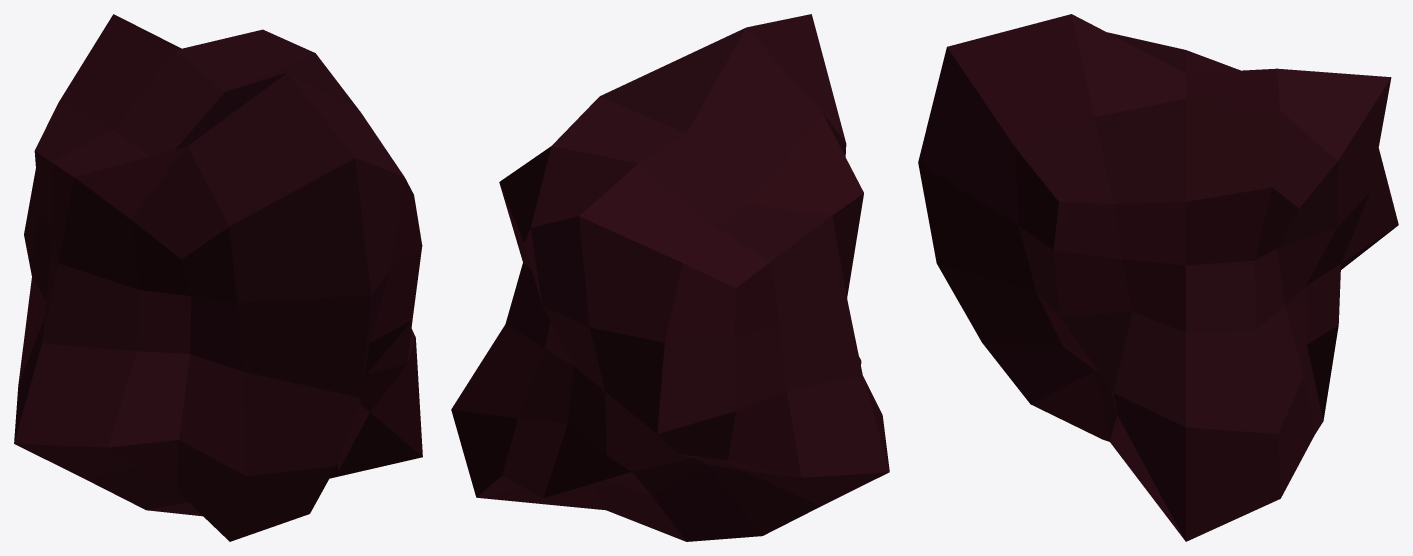
File: RockSmall1.fbx
3 renders of one model, left to right at view 1: azimuth 30°, elevation 25°; view 2: azimuth 150°, elevation 25°; view 3: azimuth 270°, elevation 25°, orthographic. The views are drawn at different scales.
Parts seen in each view (by area): view 1: Rock; view 2: Rock; view 3: Rock.
Part boxes in pixels (<box>): Rock: <box>14,14,422,541</box>; Rock: <box>451,14,889,541</box>; Rock: <box>918,14,1398,541</box>.
Size of the model in its own units: 161 by 184 by 178.
